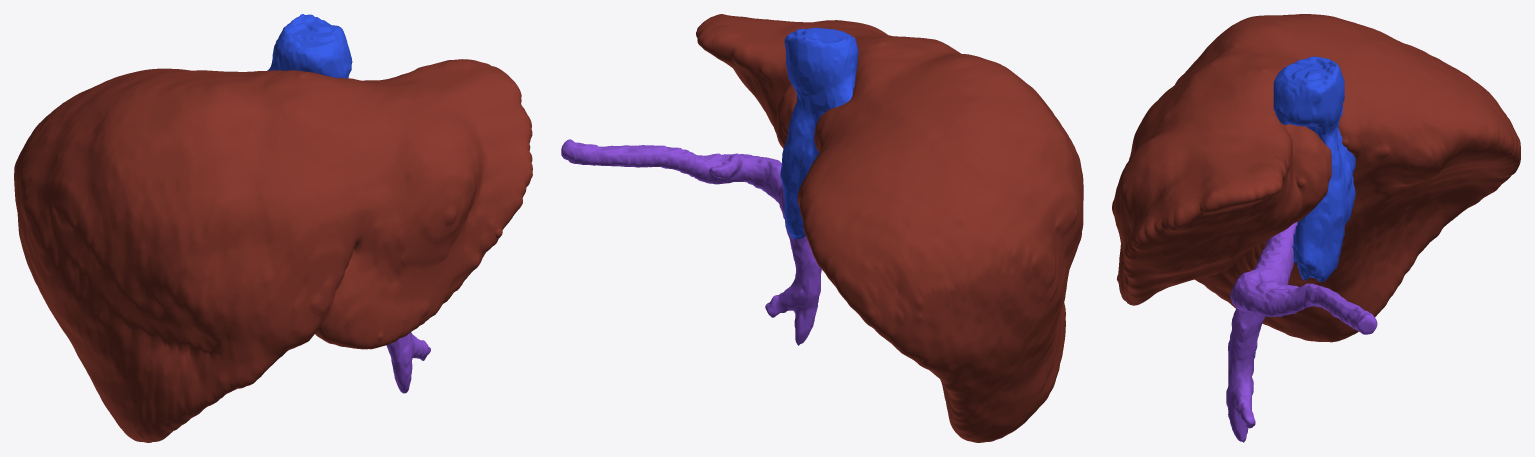
The model's file is liver-d.glb.
The picture shows the model from 3 angles, left to right: view 1: azimuth 30°, elevation 25°; view 2: azimuth 150°, elevation 25°; view 3: azimuth 270°, elevation 25°; orthographic projection.
Parts seen in each view (by area): view 1: liver_remnant, hepatic, liver_territory, portal; view 2: liver_remnant, liver_territory, portal, hepatic; view 3: liver_remnant, liver_territory, hepatic, portal.
Part boxes in pixels (bbox=[...]): liver_remnant: bbox=[20, 59, 532, 442]; hepatic: bbox=[267, 14, 352, 78]; liver_territory: bbox=[14, 68, 185, 393]; portal: bbox=[386, 332, 430, 393]; liver_remnant: bbox=[696, 14, 1083, 442]; liver_territory: bbox=[797, 151, 1032, 442]; portal: bbox=[561, 139, 821, 345]; hepatic: bbox=[780, 27, 858, 238]; liver_remnant: bbox=[1112, 14, 1441, 342]; liver_territory: bbox=[1325, 55, 1520, 338]; hepatic: bbox=[1273, 56, 1355, 281]; portal: bbox=[1226, 222, 1377, 442].
Bounding box in the file's own units: 256 × 187 × 192.
